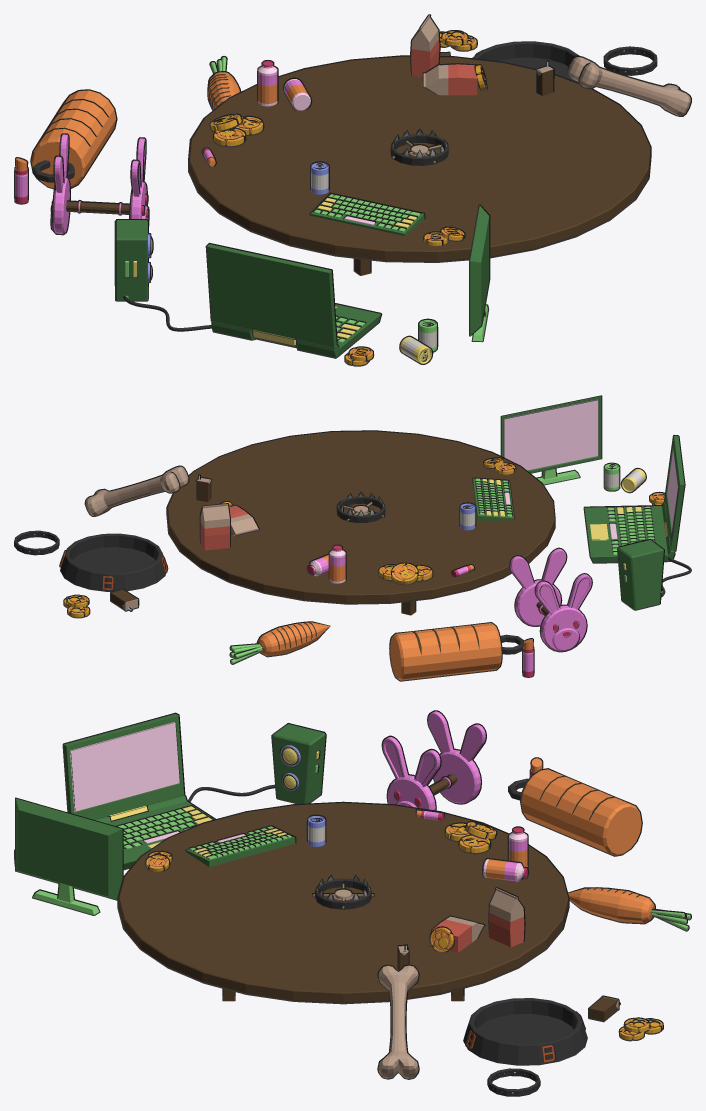
The model's file is table.fbx.
The picture shows the model from 3 angles, top to bottom: view 1: azimuth 30°, elevation 25°; view 2: azimuth 150°, elevation 25°; view 3: azimuth 270°, elevation 25°; orthographic projection. The views are drawn at different scales.
Parts seen in each view (by area): view 1: bigTable, nerdItem, RabbitItem, dogItem; view 2: bigTable, nerdItem, RabbitItem, dogItem; view 3: bigTable, nerdItem, RabbitItem, dogItem.
Boxes of the visible parts, box(x1,y1,x2,y2) form: bigTable: box(188, 55, 651, 275); nerdItem: box(114, 161, 490, 366); RabbitItem: box(14, 56, 312, 235); dogItem: box(409, 14, 691, 116); bigTable: box(166, 430, 555, 615); nerdItem: box(459, 395, 691, 610); RabbitItem: box(229, 544, 592, 681); dogItem: box(14, 465, 259, 618); bigTable: box(117, 801, 569, 1004); nerdItem: box(14, 712, 326, 915); RabbitItem: box(381, 710, 691, 931); dogItem: box(377, 887, 663, 1096).
Bounding box in the file's own units: 591 × 84.86 × 544.
